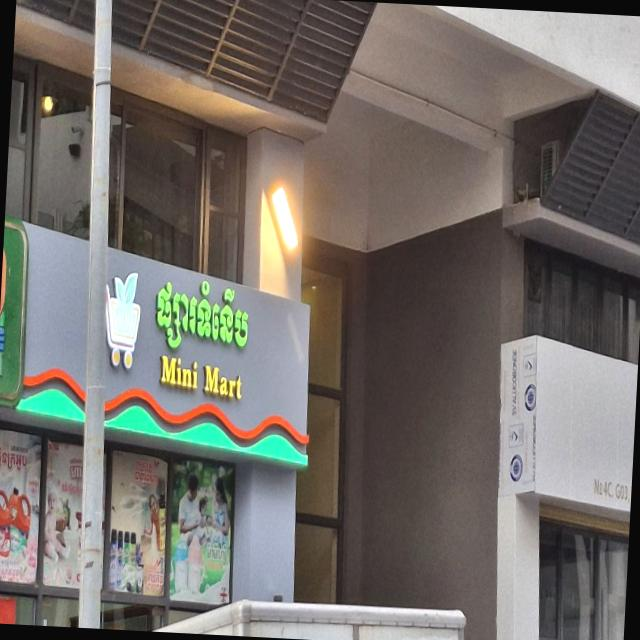Yolov11kh: (146, 260, 264, 378)
